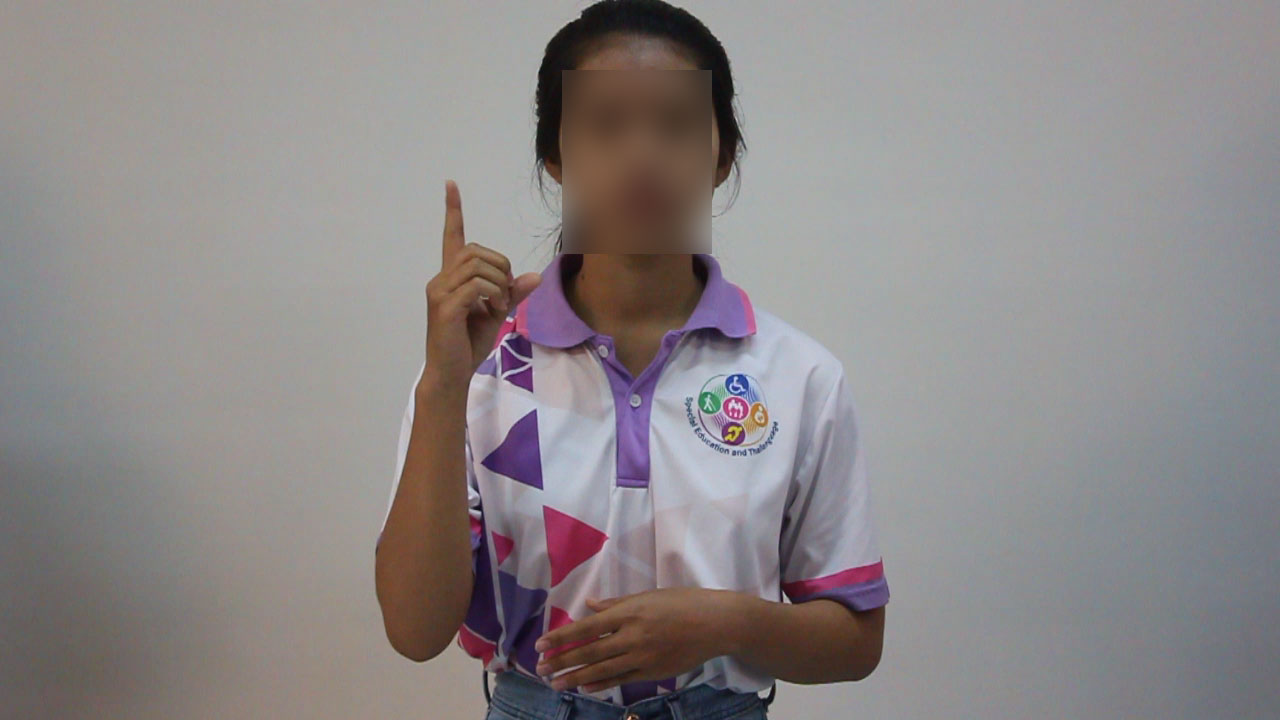dor: (417, 174, 549, 385)
